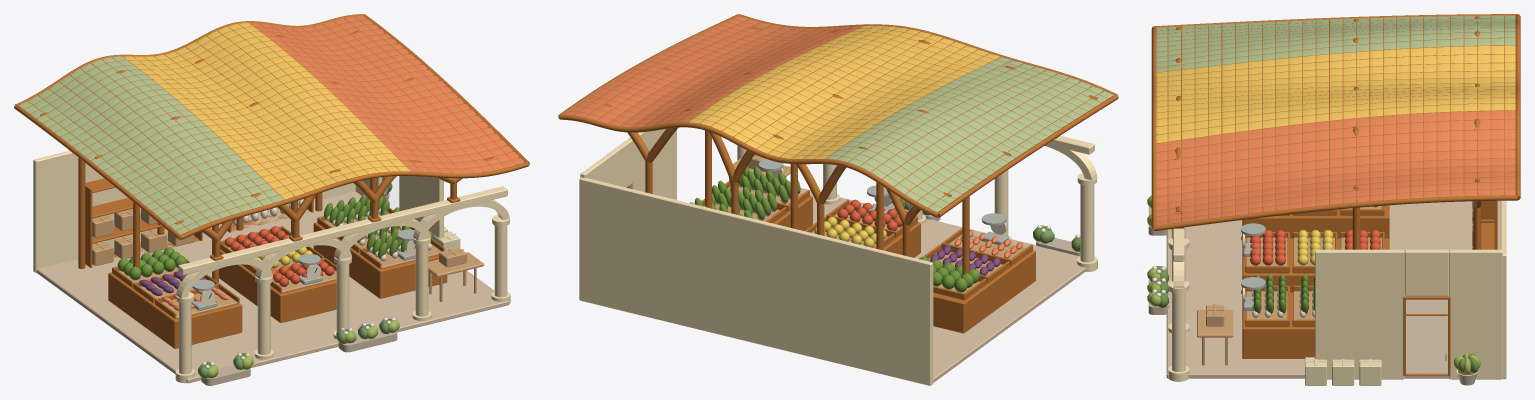
The picture shows the model from 3 angles, left to right: view 1: azimuth 30°, elevation 25°; view 2: azimuth 150°, elevation 25°; view 3: azimuth 270°, elevation 25°; orthographic projection. The views are drawn at different scales.
Visible parts, largest first — view 1: R 波浪陶片, S 市场室内地面, R 连续曲面木底, I 木摊台, A 后勤低墙, R 波浪檐唇, A 拱廊圆柱, A 拱廊顶带, I 礼盒, A 奶油拱券, A 木柱, I 叶菜叶 (+17 smaller); view 2: R 波浪陶片, A 后勤低墙, R 连续曲面木底, S 市场室内地面, R 波浪檐唇, I 木摊台, A 木柱, A 分枝弧肋, A 右后勤侧墙段, I 叶菜叶, A 拱廊圆柱, I 水果 (+12 smaller); view 3: R 波浪陶片, A 右后勤侧墙段, S 市场室内地面, R 连续曲面木底, I 木摊台, R 波浪檐唇, I 水果, I 礼盒, A 右后勤门过梁, I 分类托盘, I 果箱边框, A 拱廊圆柱 (+17 smaller).
Part boxes in pixels (<box>): R 波浪陶片: <box>19,15,524,234</box>; S 市场室内地面: <box>36,191,509,383</box>; R 连续曲面木底: <box>24,18,517,230</box>; I 木摊台: <box>108,222,447,348</box>; A 后勤低墙: <box>33,150,355,272</box>; R 波浪檐唇: <box>14,14,529,239</box>; A 拱廊圆柱: <box>179,225,507,374</box>; A 拱廊顶带: <box>178,186,507,274</box>; I 礼盒: <box>92,208,466,267</box>; A 奶油拱券: <box>176,199,509,300</box>; A 木柱: <box>78,157,456,283</box>; I 叶菜叶: <box>324,194,432,258</box>; R 波浪陶片: <box>564,16,1113,212</box>; A 后勤低墙: <box>579,177,933,385</box>; R 连续曲面木底: <box>572,19,1107,208</box>; S 市场室内地面: <box>800,187,1085,382</box>; R 波浪檐唇: <box>558,14,1118,217</box>; I 木摊台: <box>773,196,1035,333</box>; A 木柱: <box>645,130,969,274</box>; A 分枝弧肋: <box>604,26,1097,225</box>; A 右后勤侧墙段: <box>580,129,676,199</box>; I 叶菜叶: <box>690,166,800,219</box>; A 拱廊圆柱: <box>737,145,1094,262</box>; I 水果: <box>814,199,907,247</box>; R 波浪陶片: <box>1156,15,1515,225</box>; A 右后勤侧墙段: <box>1315,249,1502,379</box>; S 市场室内地面: <box>1166,200,1500,378</box>; R 连续曲面木底: <box>1157,18,1514,223</box>; I 木摊台: <box>1242,205,1389,358</box>; R 波浪檐唇: <box>1151,14,1520,230</box>; I 水果: <box>1250,230,1380,265</box>; I 礼盒: <box>1206,201,1473,385</box>; A 右后勤门过梁: <box>1404,249,1449,296</box>; I 分类托盘: <box>1246,206,1382,326</box>; I 果箱边框: <box>1245,209,1384,326</box>; A 拱廊圆柱: <box>1172,227,1185,371</box>.
Bounding box in the file's own units: 22.41 × 11.79 × 18.5.
